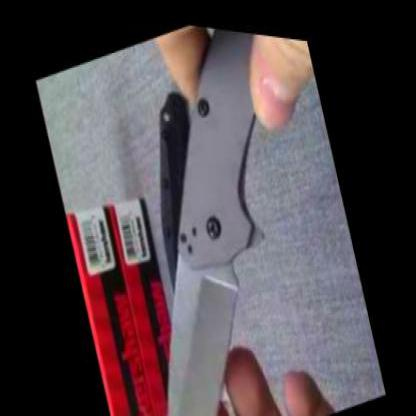knife: (57, 5, 387, 413)
